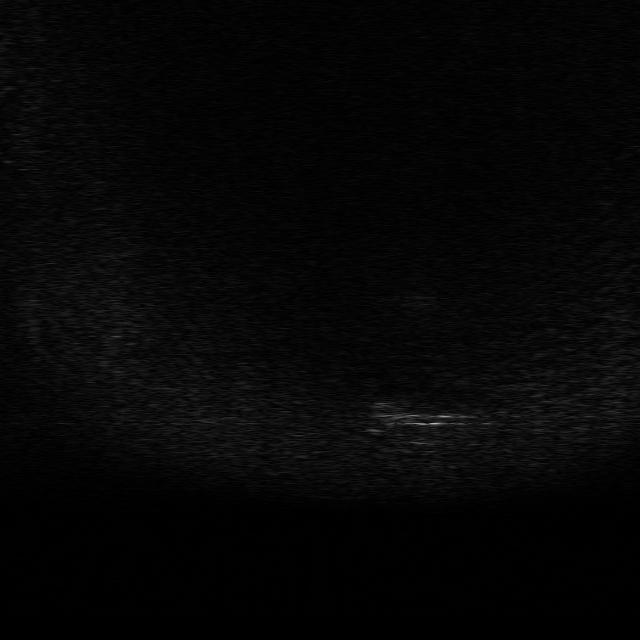plane: (365, 398, 479, 446)
